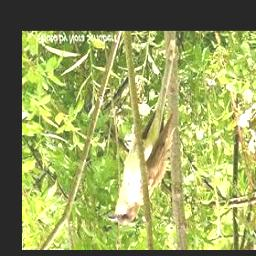Cuckoo: (107, 114, 176, 223)
